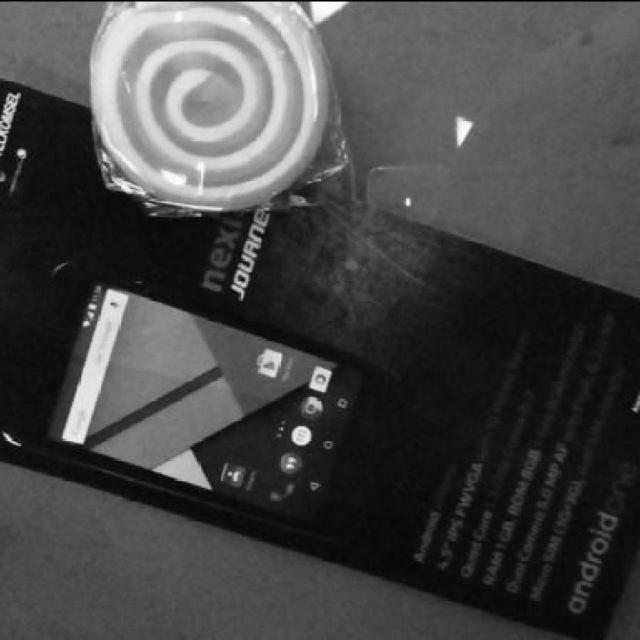fake: (0, 256, 385, 532)
